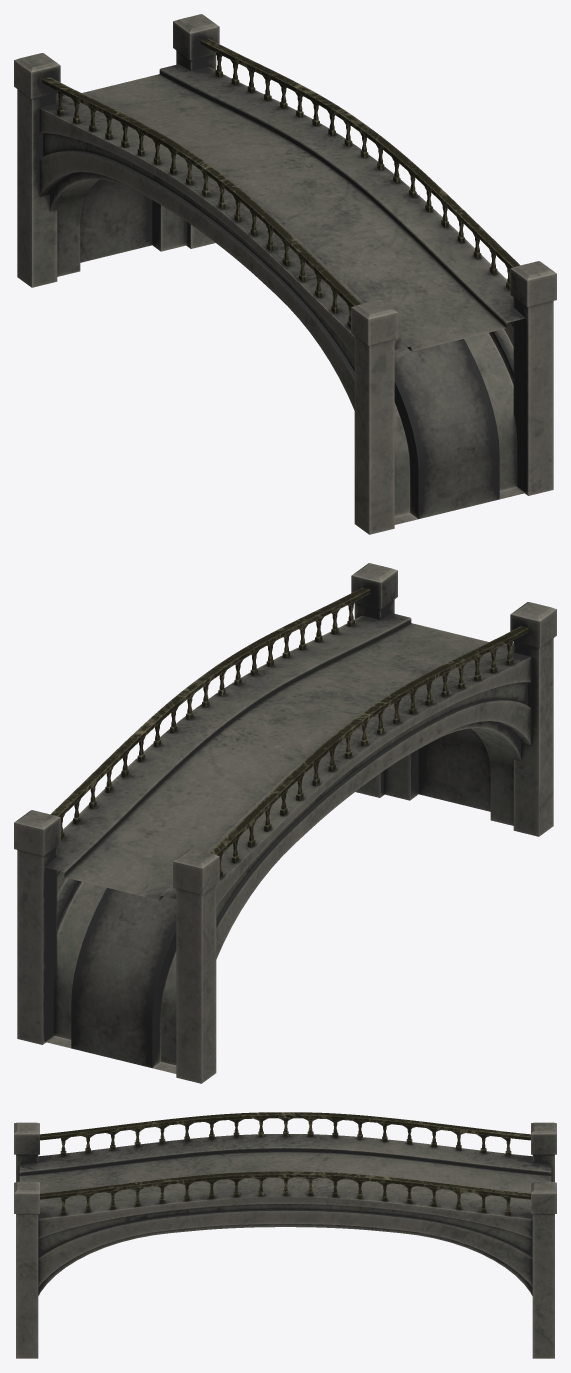
The model's file is SM_Bridge1.fbx.
3 renders of one model, top to bottom at view 1: azimuth 30°, elevation 25°; view 2: azimuth 150°, elevation 25°; view 3: azimuth 270°, elevation 25°, orthographic. The views are drawn at different scales.
Parts seen in each view (by area): view 1: SM_Bridge1; view 2: SM_Bridge1; view 3: SM_Bridge1.
Part boxes in pixels (left/top/right/bottom): SM_Bridge1: left=14, top=14, right=556, bottom=534; SM_Bridge1: left=14, top=563, right=556, bottom=1083; SM_Bridge1: left=14, top=1112, right=556, bottom=1358.
Bounding box in the file's own units: 1064 × 3464 × 1275.
